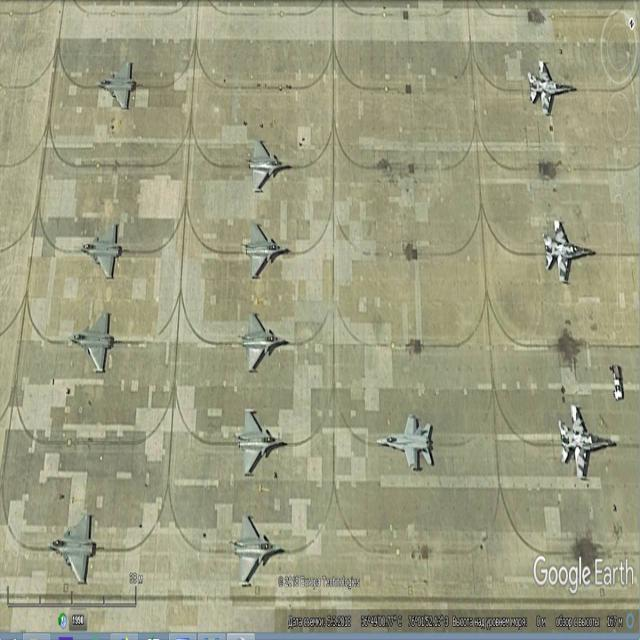MIL_Plane: (558, 402, 613, 481), (229, 514, 281, 586), (46, 512, 96, 585), (232, 408, 284, 477), (542, 219, 592, 283), (376, 414, 432, 471), (236, 312, 285, 372), (67, 312, 115, 372), (239, 221, 286, 278), (527, 60, 573, 116), (78, 222, 122, 279), (245, 87, 289, 141), (95, 60, 137, 111)
